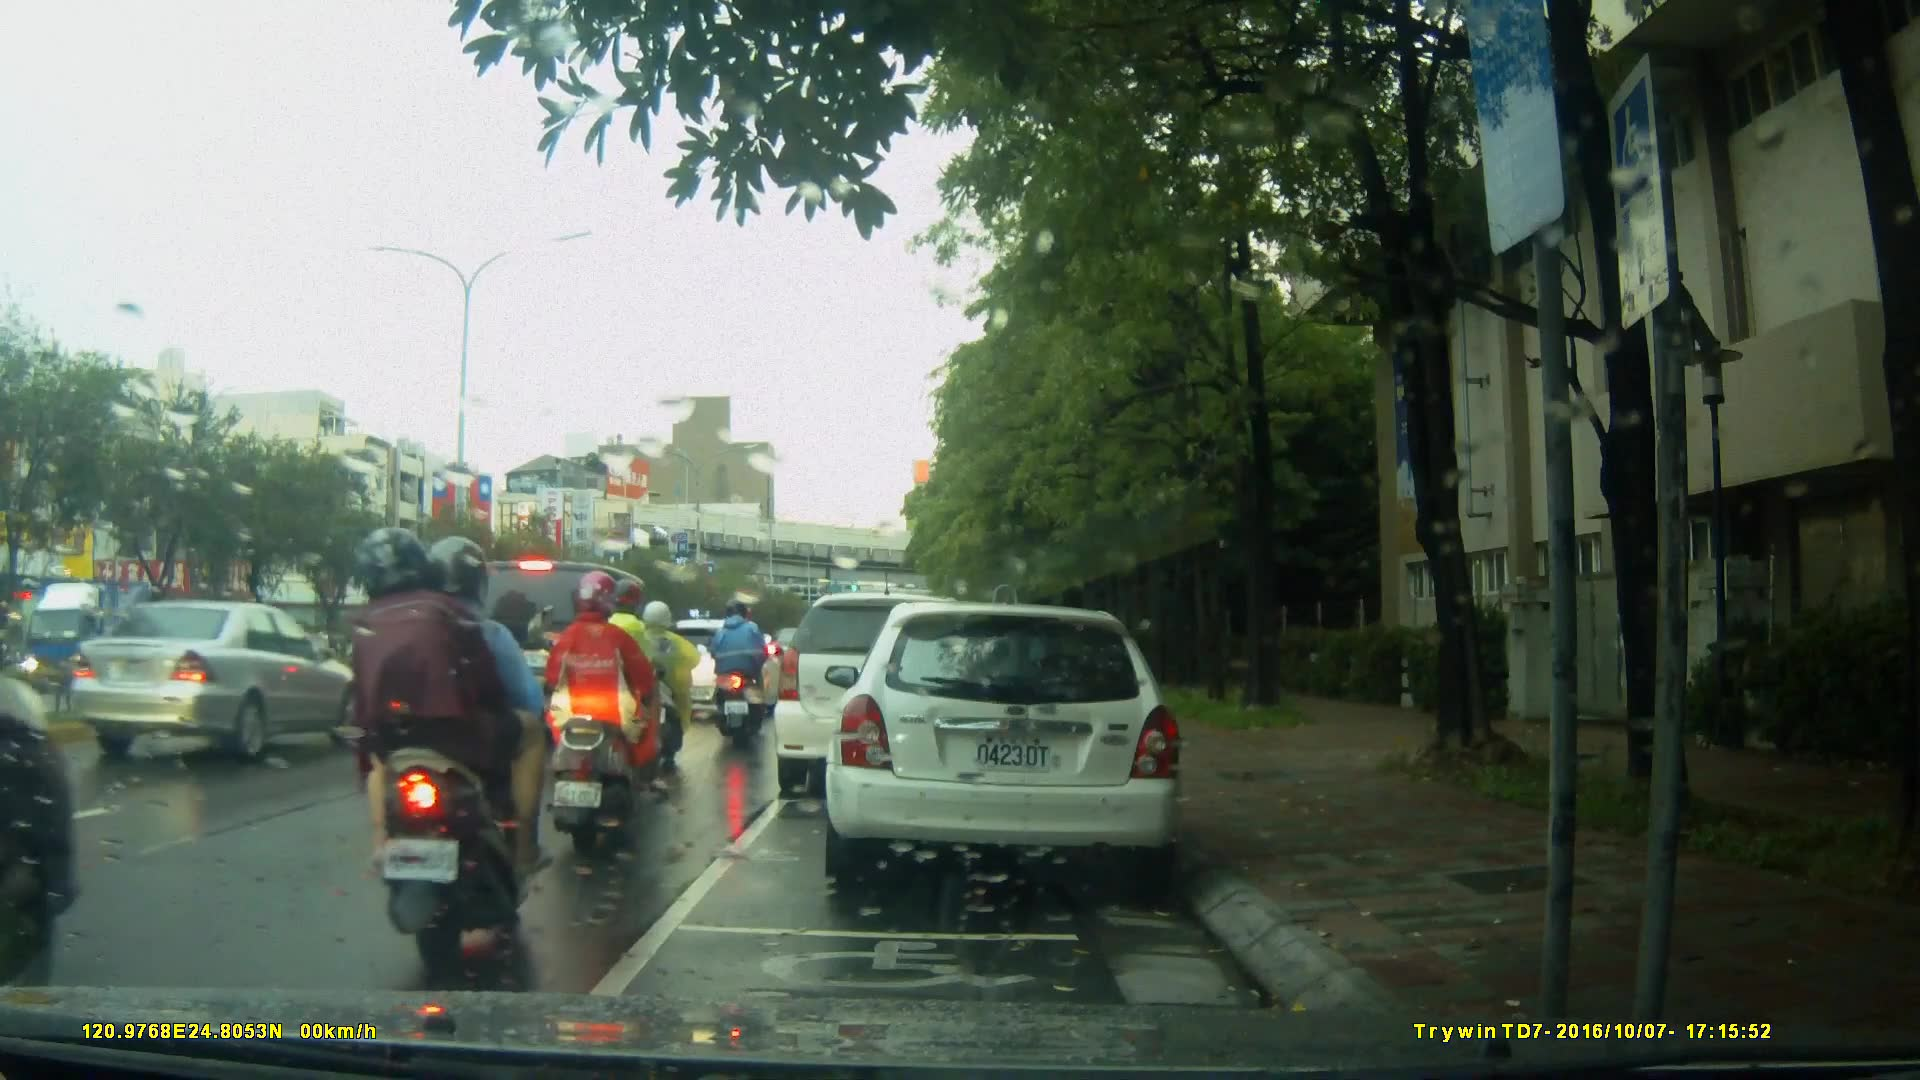rider: (352, 528, 547, 956), (544, 569, 662, 858), (352, 583, 463, 765), (622, 596, 699, 772), (708, 594, 768, 743)
vehicle: (822, 604, 1188, 883), (61, 598, 384, 759), (774, 595, 995, 802), (458, 559, 665, 737)
